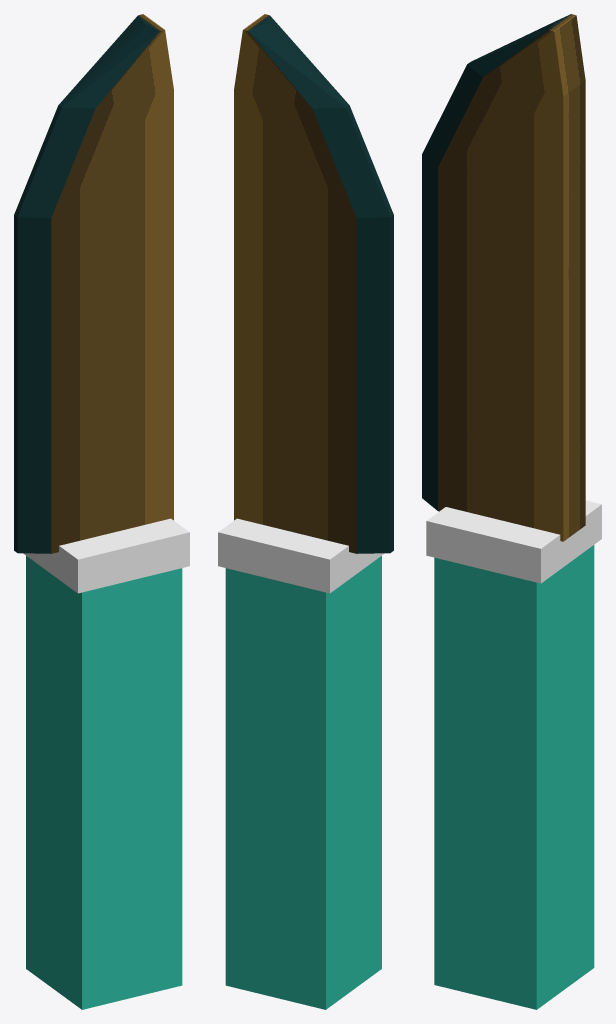
File: diamond.obj
3 views of the same model, side by side, from view 1: azimuth 30°, elevation 25°; view 2: azimuth 150°, elevation 25°; view 3: azimuth 330°, elevation 25° (orthographic). The views are drawn at different scales.
Visible parts, largest first — view 1: blade, grip, bolster; view 2: blade, grip, bolster; view 3: blade, grip, bolster.
Boxes of the visible parts, left/top/right/bottom form: blade: left=14, top=14, right=173, bottom=553; grip: left=26, top=556, right=182, bottom=1009; bolster: left=23, top=518, right=189, bottom=593; blade: left=234, top=14, right=393, bottom=553; grip: left=225, top=556, right=381, bottom=1009; bolster: left=218, top=518, right=384, bottom=593; blade: left=422, top=14, right=585, bottom=541; grip: left=434, top=545, right=594, bottom=1009; bolster: left=426, top=500, right=601, bottom=583.
Bounding box in the file's own units: 0.1562 × 0.9563 × 0.1094.
